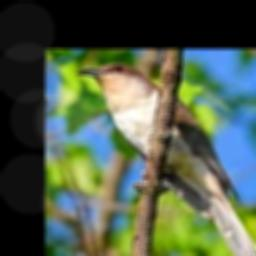Cuckoo: (79, 62, 256, 256)
